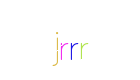J: (22, 0, 102, 80)
R: (27, 0, 107, 80), (30, 0, 110, 80), (32, 0, 112, 80)
